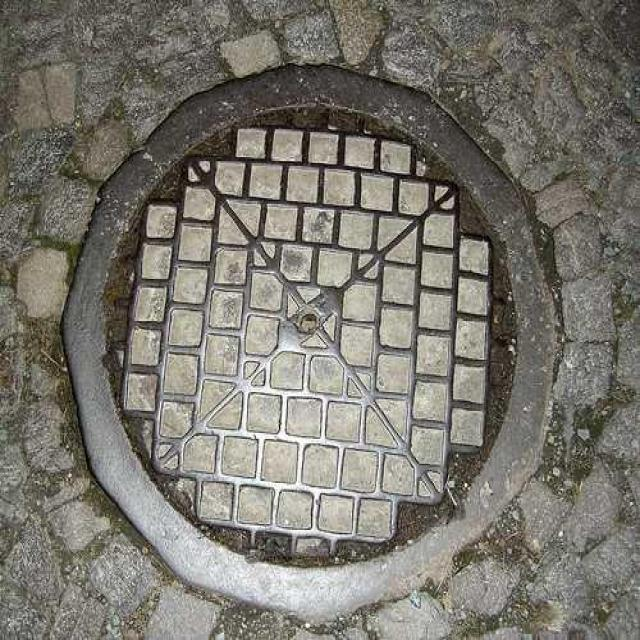manhole: (64, 66, 554, 617)
